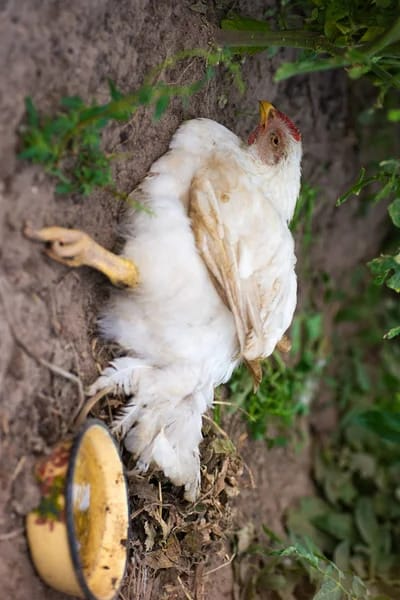Unhealthy: (24, 48, 313, 491)
